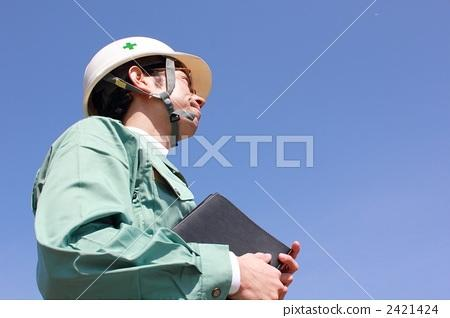helmet: (85, 34, 213, 101)
